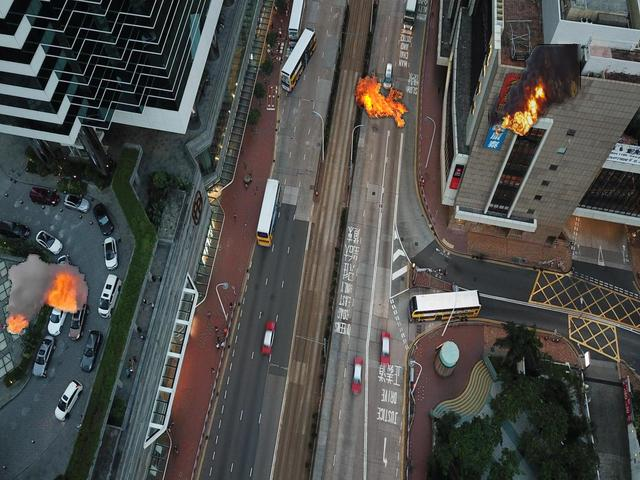fire: (489, 44, 579, 136), (2, 253, 88, 334), (353, 69, 408, 132)
